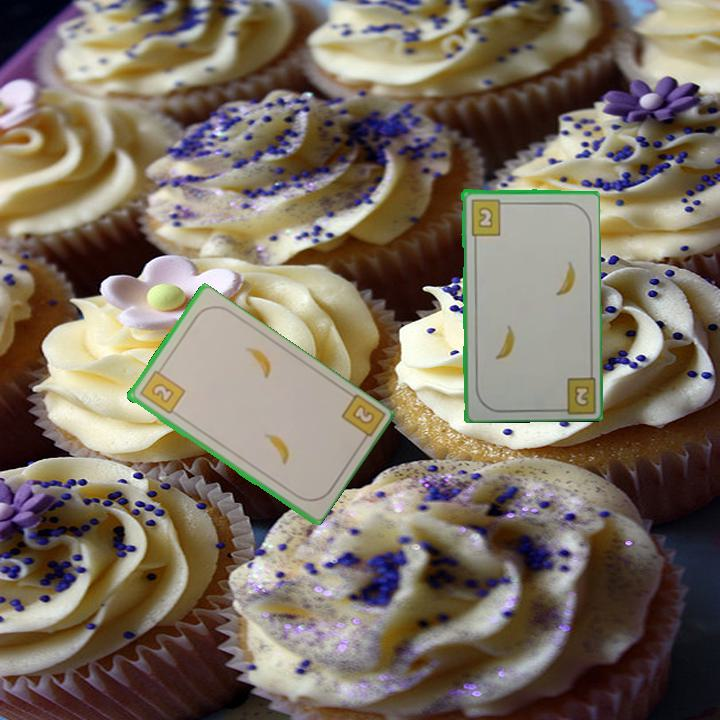2b: (337, 391, 386, 448), (136, 363, 187, 417), (467, 195, 509, 238), (571, 382, 592, 410)
